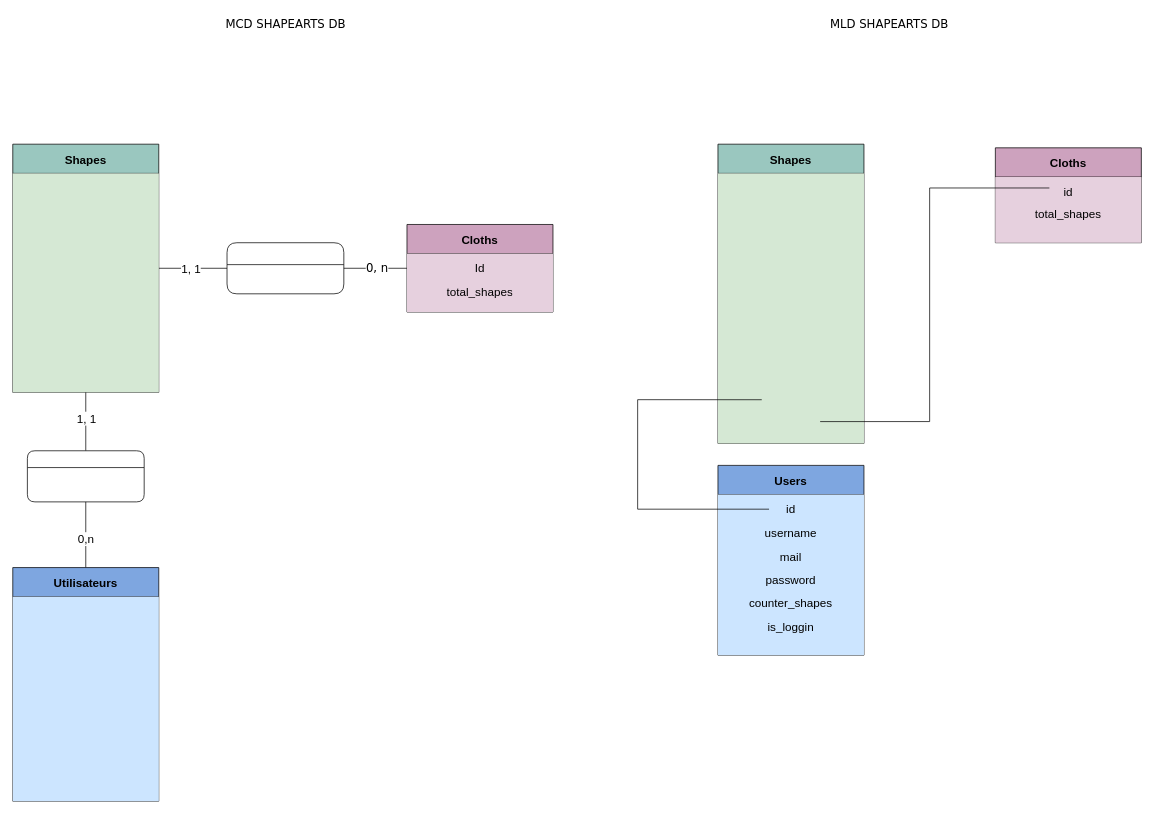
This 1154x814 diagram has some shape labels left out. Here are the shapes that lost their labels. From the top down, the centre of each, then its label:
At point 85,282: "Id Name Pos_X Pos_Y Taille Rotation Opacité Couleur Created_At".
At point 285,268: "Apartient".
At point 791,308: "id name pos_x pos_y size rotation opacity color created_at user_id cloth_id".
At point 85,476: "Créer".
At point 85,698: "Id Pseudo Mail Password Counter_Shapes Is_Loggin".
